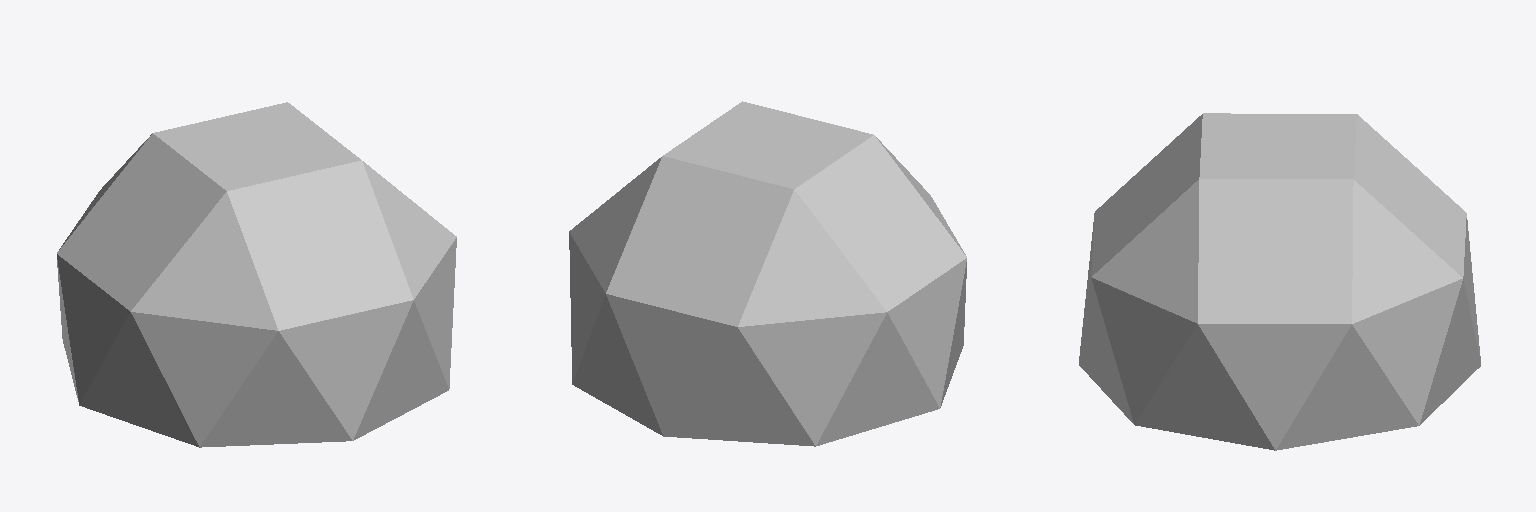
File: GyroElongatedSquareCupola.obj
3 renders of one model, left to right at view 1: azimuth 30°, elevation 25°; view 2: azimuth 150°, elevation 25°; view 3: azimuth 270°, elevation 25°, orthographic.
Parts seen in each view (by area): view 1: GyroElongatedSquareCupola; view 2: GyroElongatedSquareCupola; view 3: GyroElongatedSquareCupola.
Part boxes in pixels (left/top/right/bottom): GyroElongatedSquareCupola: left=57, top=102, right=456, bottom=447; GyroElongatedSquareCupola: left=569, top=101, right=966, bottom=446; GyroElongatedSquareCupola: left=1079, top=113, right=1480, bottom=450.
Bounding box in the file's own units: 1.96 × 1.19 × 1.96.